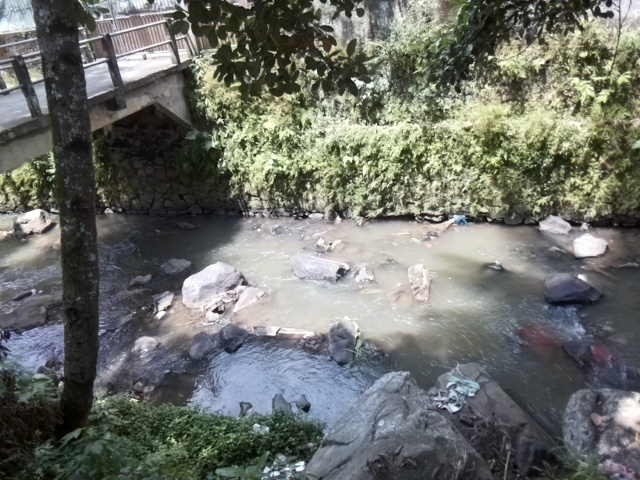Sampah_Plastik: (430, 369, 482, 411), (452, 211, 470, 225)
